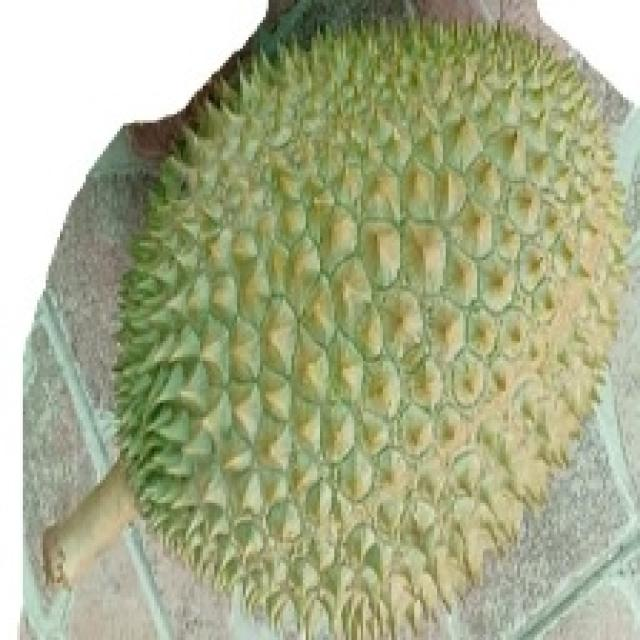d2: (37, 25, 630, 630)
